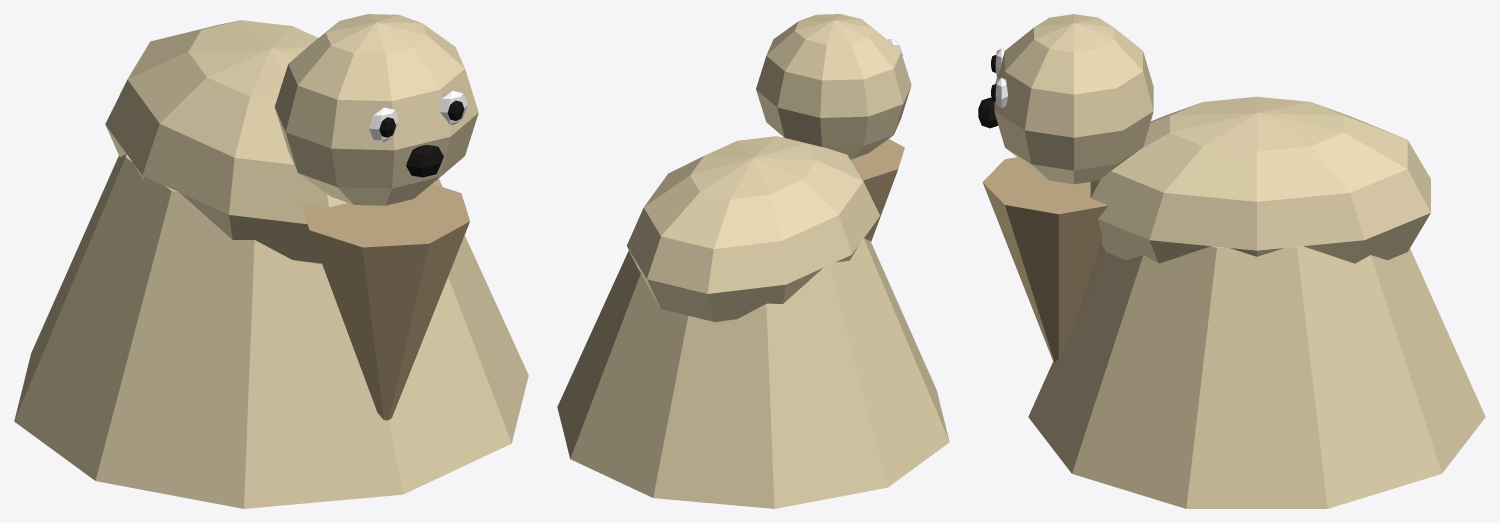
Rendered from dog_long_hair.glb.
The picture shows the model from 3 angles, left to right: view 1: azimuth 30°, elevation 25°; view 2: azimuth 150°, elevation 25°; view 3: azimuth 270°, elevation 25°; orthographic projection. The views are drawn at different scales.
Visible parts, largest first — view 1: fur_long_fur, head_long_fur, fur_long_fur_dark, head_dog_black, head_dog_eye; view 2: fur_long_fur, head_long_fur, fur_long_fur_dark; view 3: fur_long_fur, head_long_fur, fur_long_fur_dark, head_dog_black.
Part boxes in pixels (box(x1,y1,x2,y2)): fur_long_fur: box(14, 20, 528, 508); head_long_fur: box(274, 14, 478, 205); fur_long_fur_dark: box(301, 184, 469, 420); head_dog_black: box(379, 100, 464, 177); head_dog_eye: box(369, 90, 467, 141); fur_long_fur: box(557, 136, 949, 508); head_long_fur: box(756, 14, 911, 159); fur_long_fur_dark: box(850, 139, 904, 241); fur_long_fur: box(1028, 96, 1485, 508); head_long_fur: box(994, 14, 1153, 184); fur_long_fur_dark: box(982, 157, 1108, 362); head_dog_black: box(978, 55, 998, 128).
Size of the model in its own units: 0.5706 by 0.57 by 0.6656.
